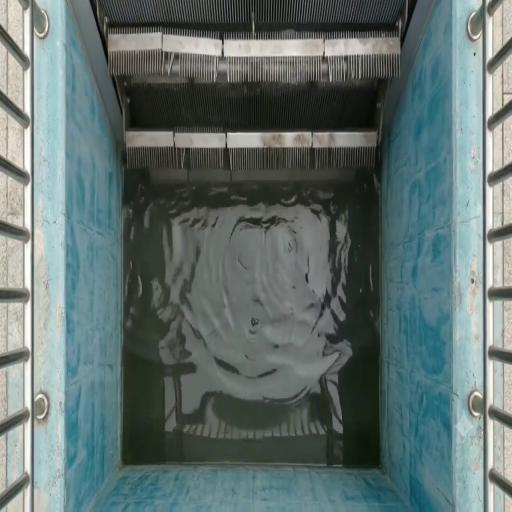rake_broken: (308, 25, 358, 95), (299, 129, 353, 186), (203, 28, 242, 91), (161, 119, 193, 181), (209, 123, 239, 184), (148, 42, 185, 82)
